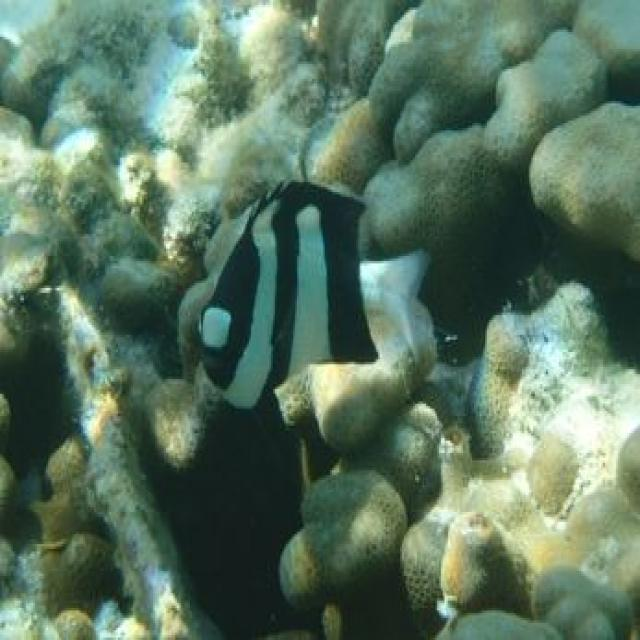Three_striped DasmselFish: (187, 178, 429, 412)
